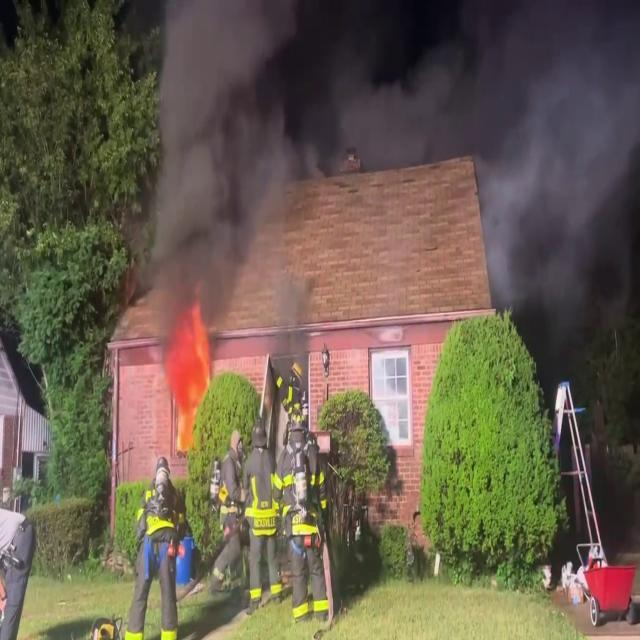Fire: (167, 304, 212, 450)
Smoke: (124, 0, 356, 332), (433, 0, 640, 327)
